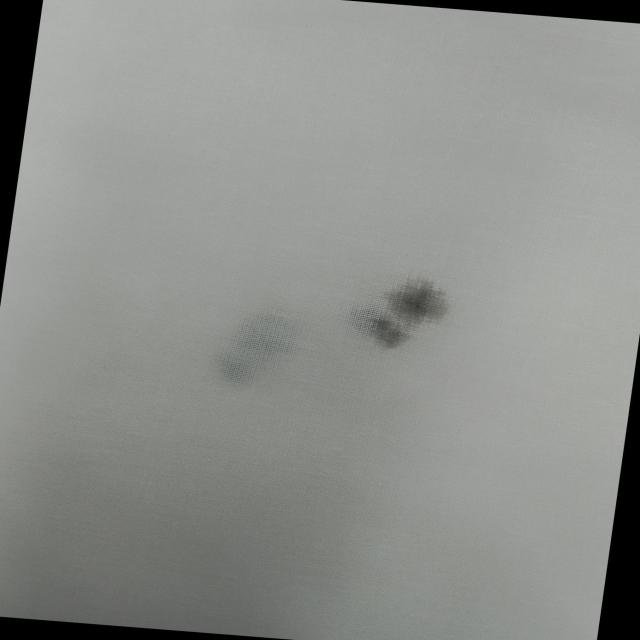stain: (210, 300, 313, 394), (348, 272, 461, 354)
